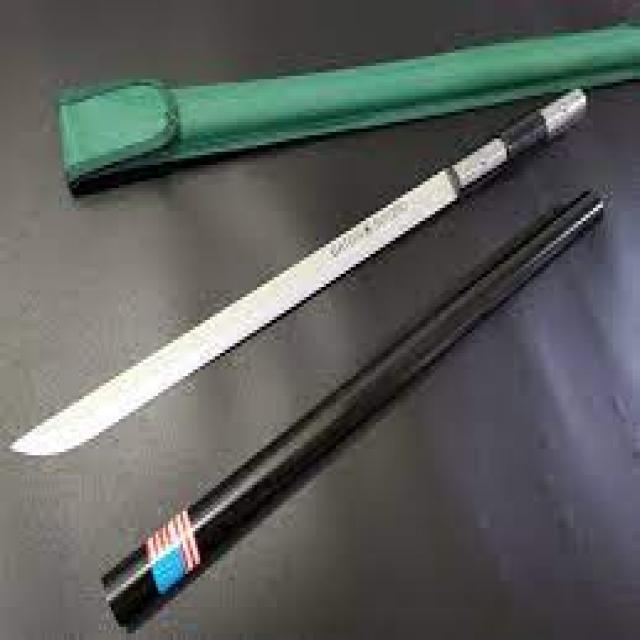long sword: (9, 85, 589, 464)
